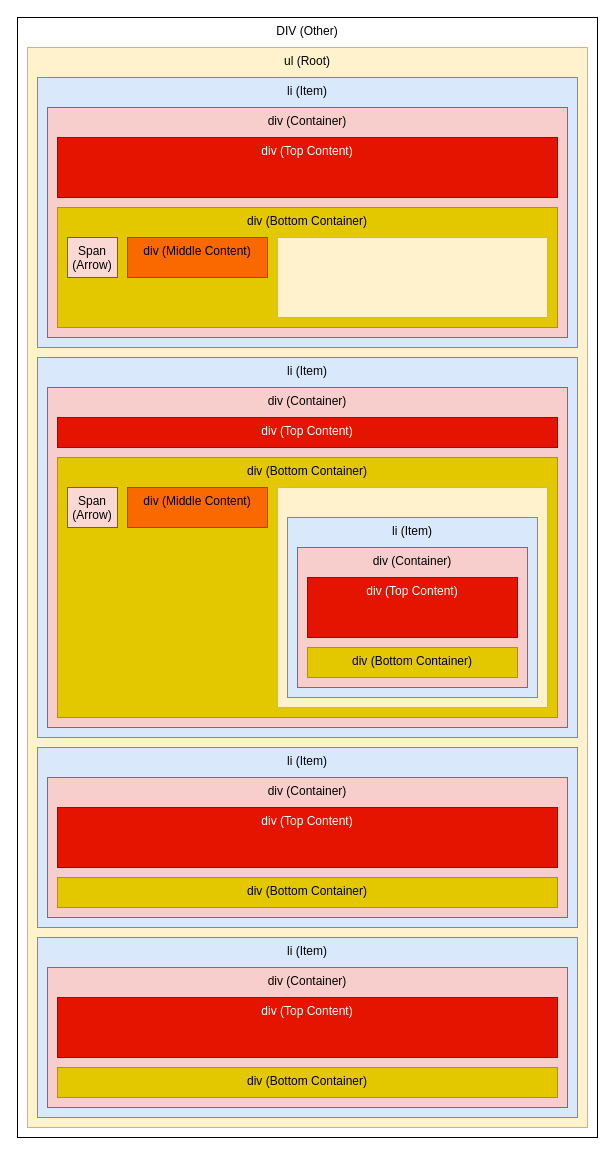
This 615x1155 diagram has some shape labels left out. Each missing label, with the box of its shape:
ul (Child List): (276, 486, 548, 708)
ul (Child List) ...: (276, 236, 548, 318)
